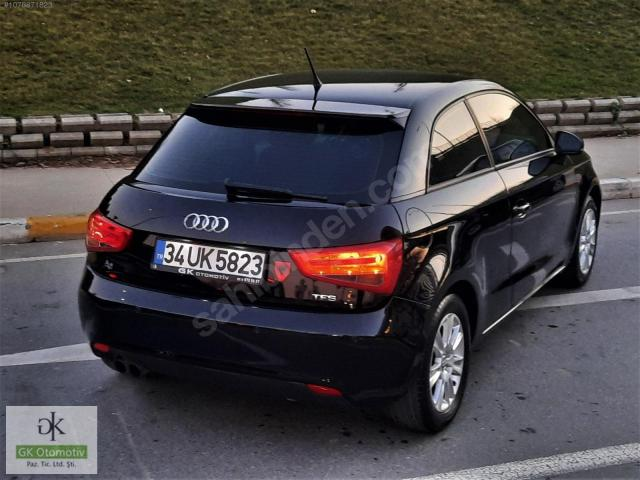plaka: (153, 240, 266, 284)
